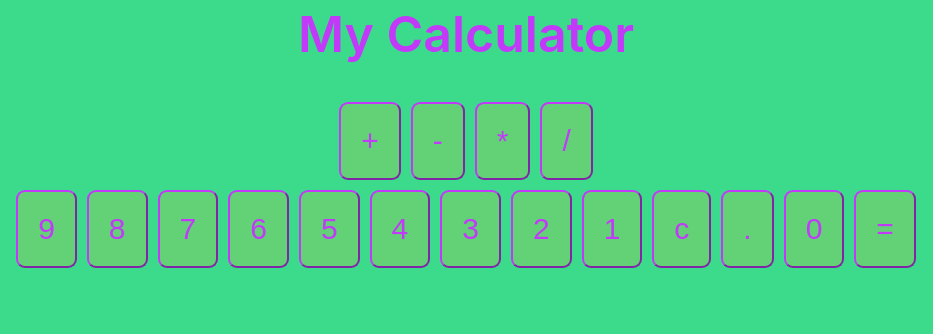
should display 4 when the user enters 2 + 2
The width and height of the screenshot is (933, 334).
Click the button "2": [541, 229] box [511, 190, 572, 268]
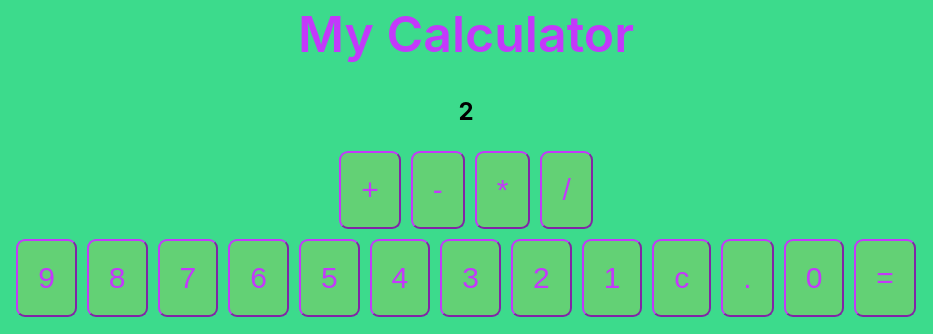
Click the button "+": [370, 190] box [339, 151, 401, 229]
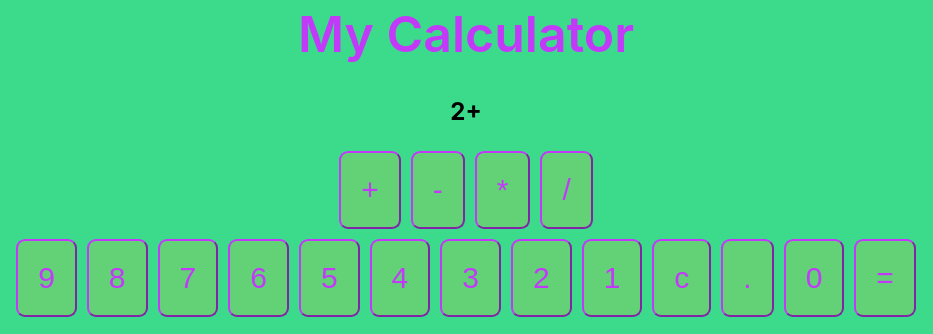
Click the button "2": [541, 278] box [511, 239, 572, 317]
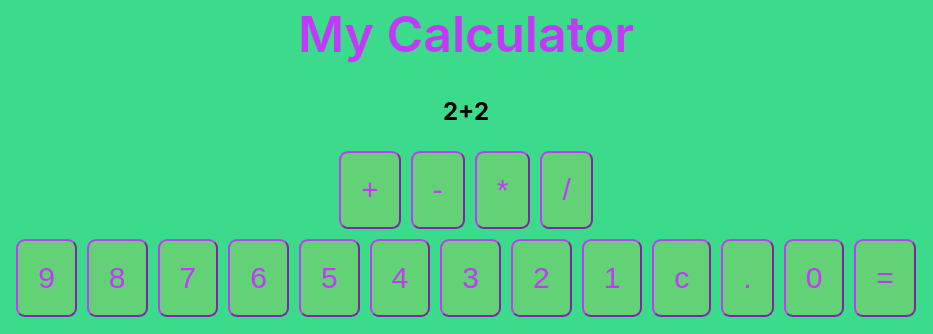
Click the button "=": [885, 278] box [854, 239, 916, 317]
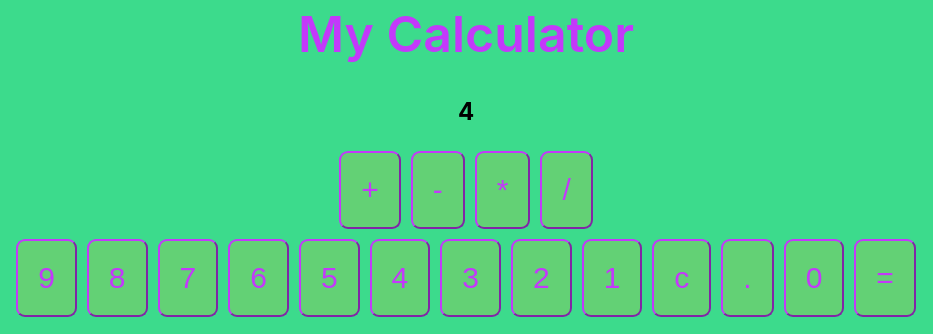
Expected: the heading with test id "display" reads "4", [458, 97, 474, 126]
